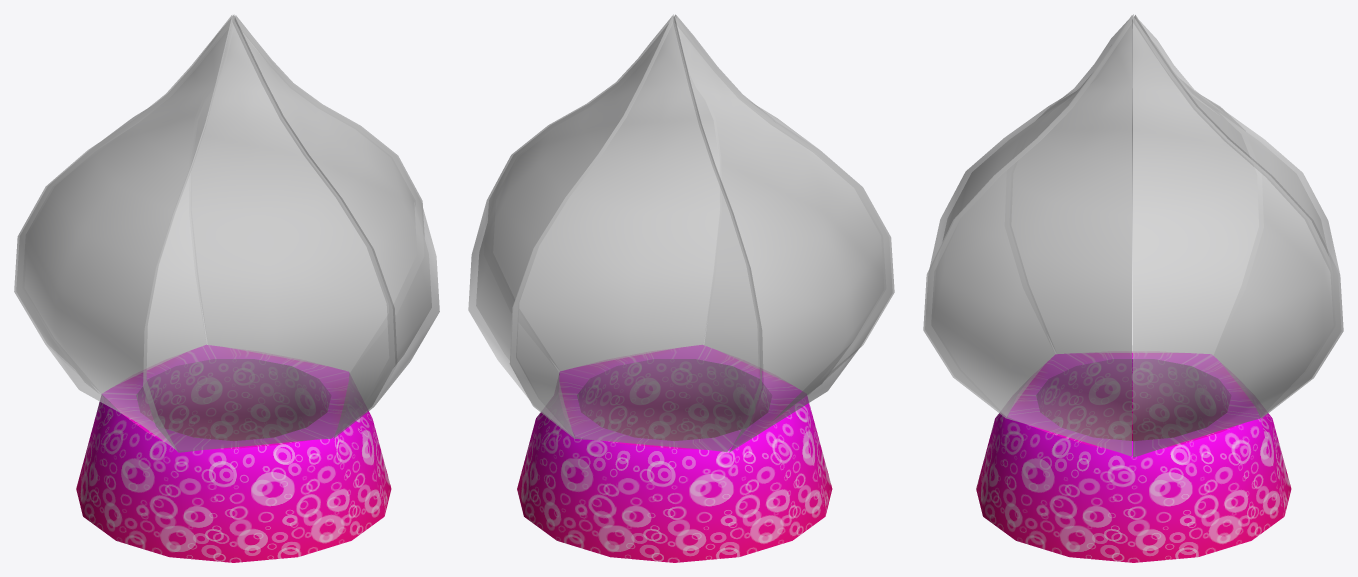
File: Glowpup_Bud_Colored 1.fbx
3 renders of one model, left to right at view 1: azimuth 30°, elevation 25°; view 2: azimuth 150°, elevation 25°; view 3: azimuth 270°, elevation 25°, orthographic.
Parts seen in each view (by area): view 1: Petal1_pPyramid3, pPipe1; view 2: Petal1_pPyramid3, pPipe1; view 3: Petal1_pPyramid3, pPipe1.
Boxes of the visible parts, <box> form: Petal1_pPyramid3: <box>14,15,439,452</box>; pPipe1: <box>76,345,391,562</box>; Petal1_pPyramid3: <box>468,14,894,452</box>; pPipe1: <box>517,345,832,562</box>; Petal1_pPyramid3: <box>923,14,1343,457</box>; pPipe1: <box>976,351,1291,562</box>.
Size of the model in its own units: 16.12 by 19.99 by 15.83.
